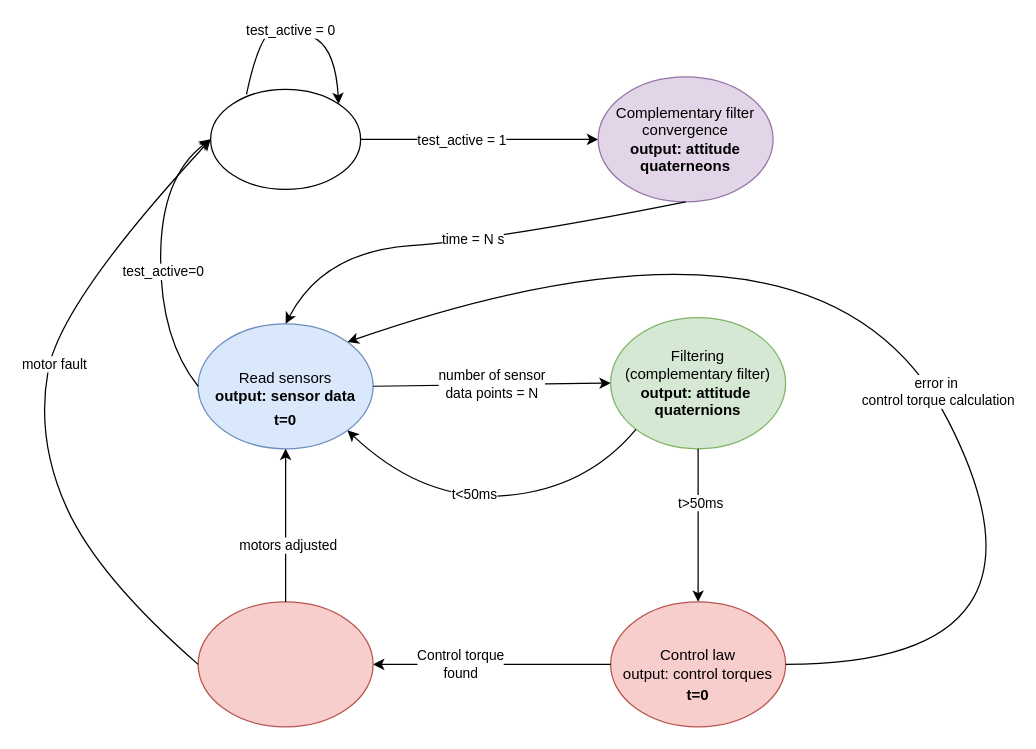
The diagram is 1036 pixels wide and 749 high, and some of its shapes have lost their labels. The centre of each missing label's shape, as x and y in pixels:
"Angular acceleration integration output: motor speed" belongs at (x=285, y=664).
"Standby" belongs at (x=285, y=138).
